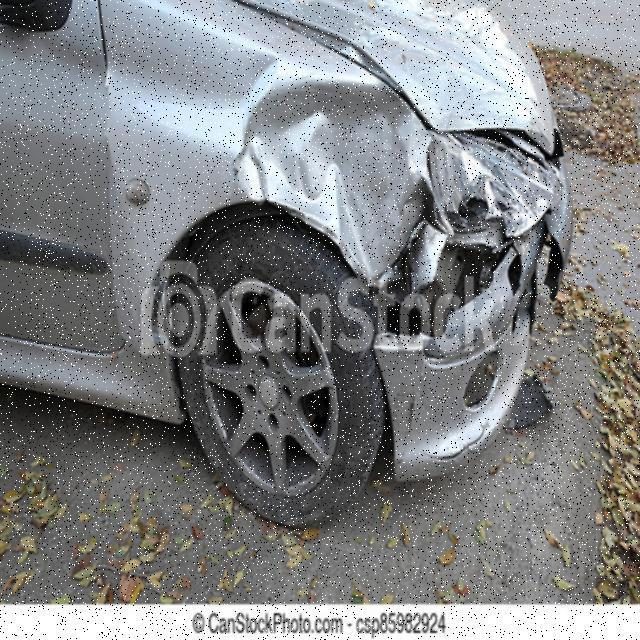car damage: (97, 59, 396, 334), (353, 227, 564, 489), (404, 120, 570, 245)
